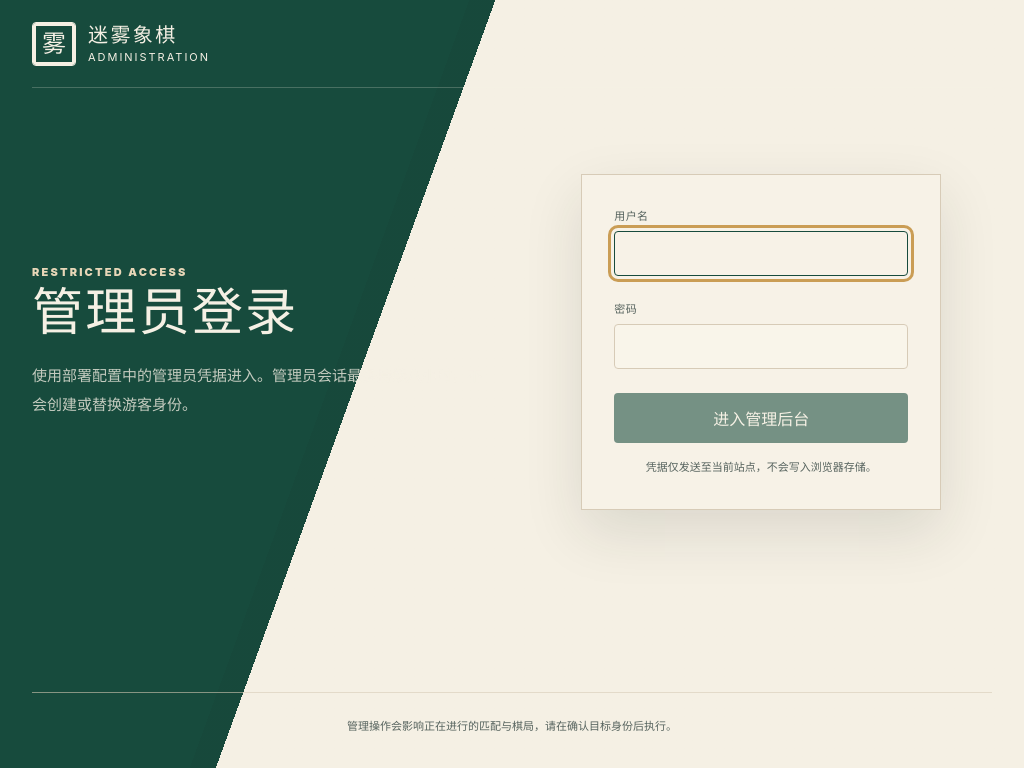
Test: AdminLoginPage › logs in with normalized credentials and opens the protected user directory
The width and height of the screenshot is (1024, 768).
Expected: the heading "管理员登录" is shown, [32,284,298,341]
In the field labelled "用户名": {"x": 761, "y": 254} [614,231,908,276], type "  operator  "
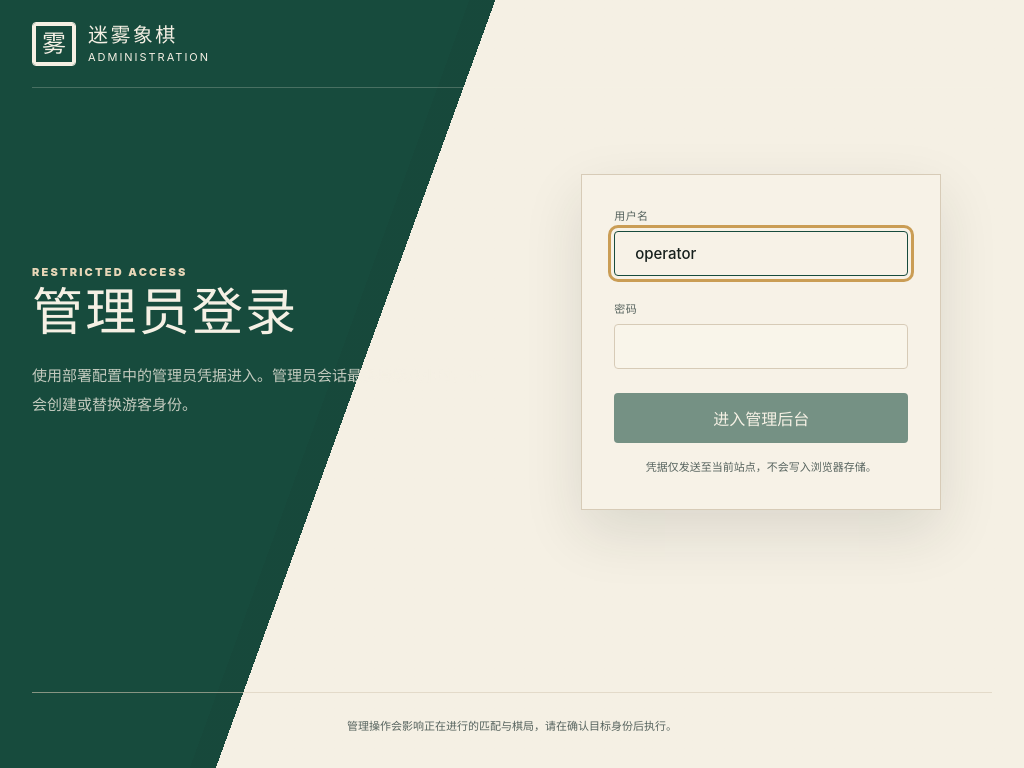
In the password field labelled "密码": {"x": 761, "y": 347} [614,324,908,369], type "correct horse battery staple"
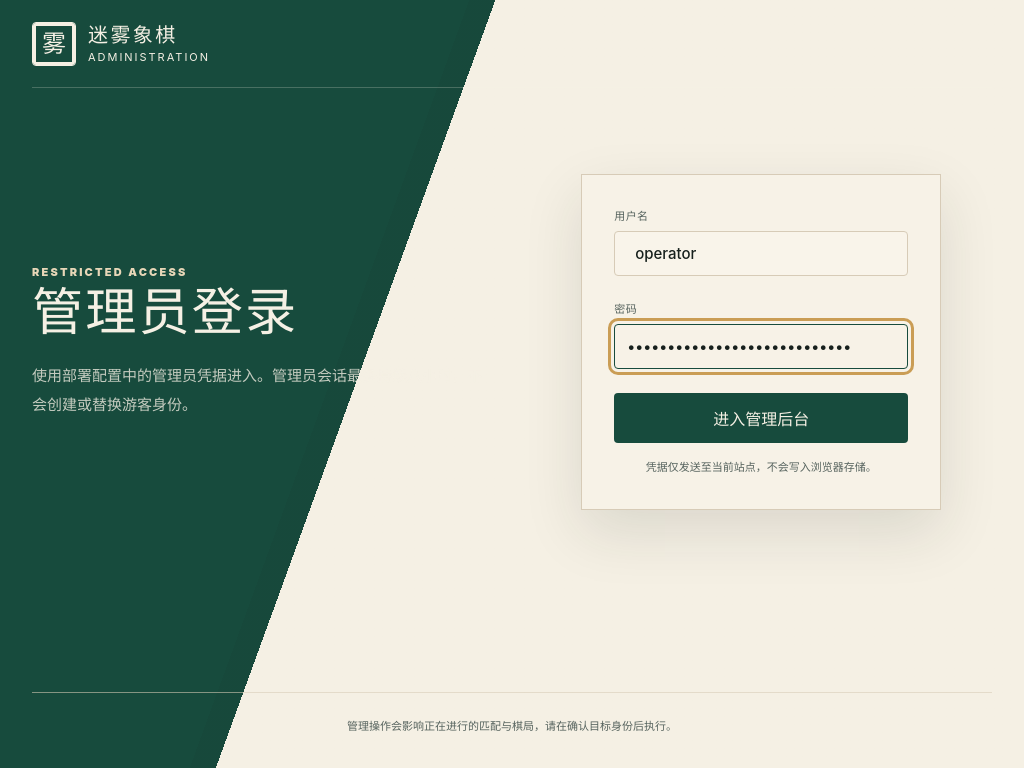
Click the button "进入管理后台": {"x": 761, "y": 418} [614,393,908,443]
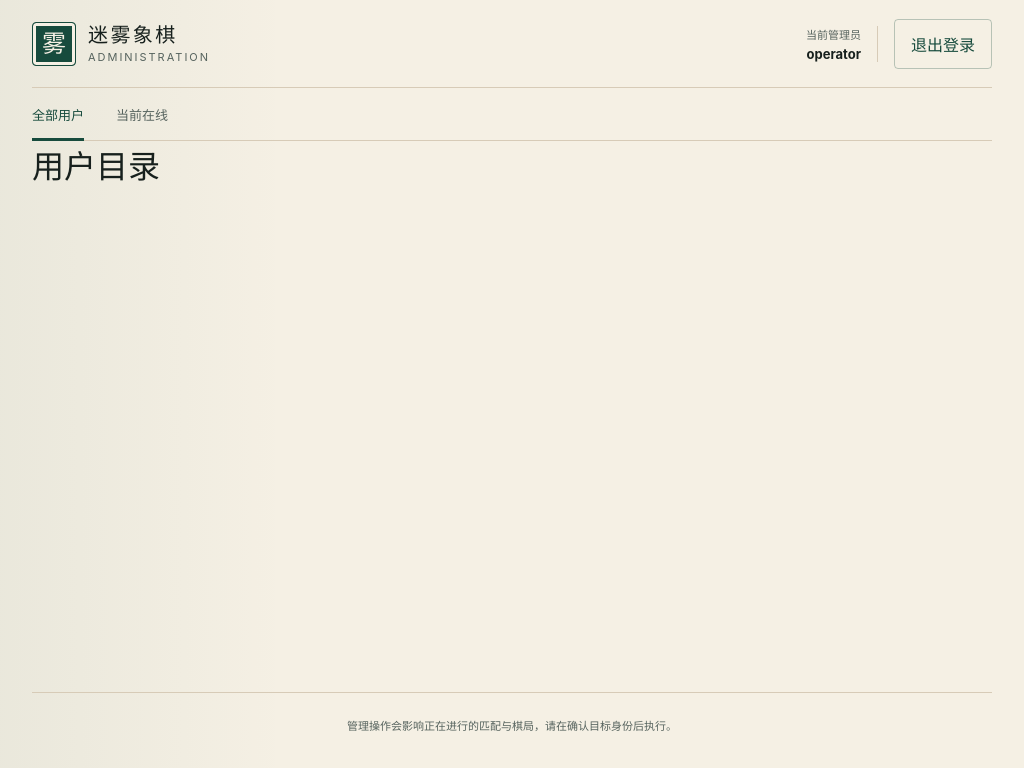
Expected: the heading "用户目录" is shown, [32,147,160,186]
